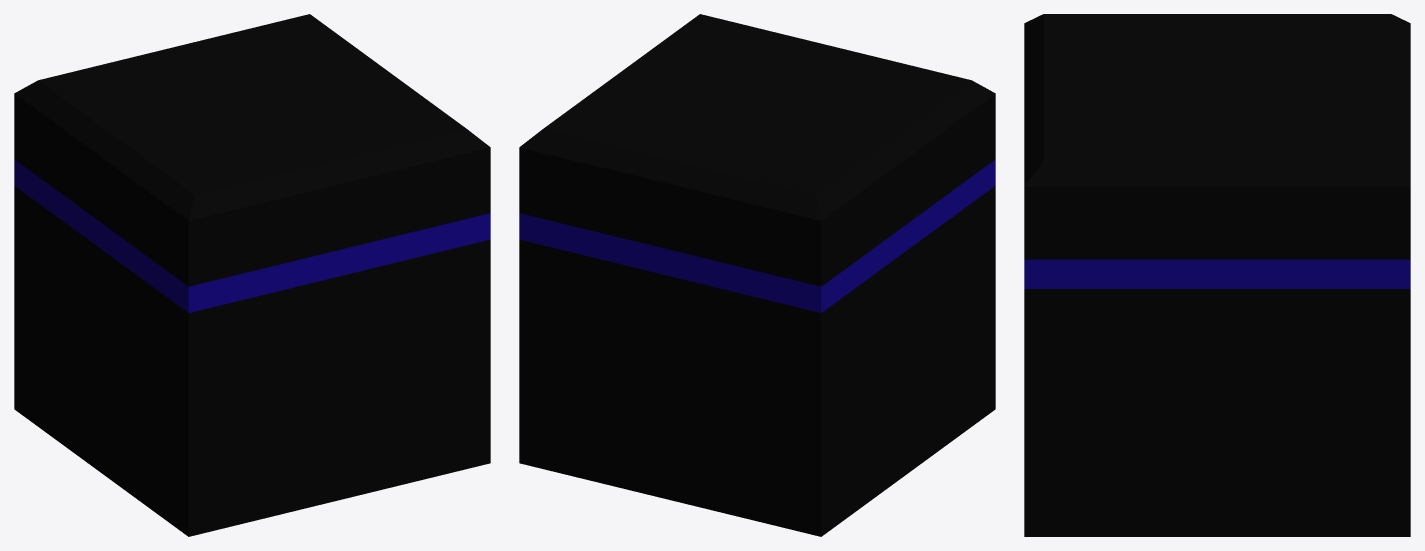
3 renders of one model, left to right at view 1: azimuth 30°, elevation 25°; view 2: azimuth 150°, elevation 25°; view 3: azimuth 270°, elevation 25°, orthographic. The views are drawn at different scales.
Parts seen in each view (by area): view 1: Cube; view 2: Cube; view 3: Cube.
Boxes of the visible parts, x1,y1,x2,y2 form: Cube: (14, 14, 490, 536); Cube: (519, 14, 995, 536); Cube: (1024, 14, 1410, 536).
Size of the model in its own units: 200 by 210 by 200.
